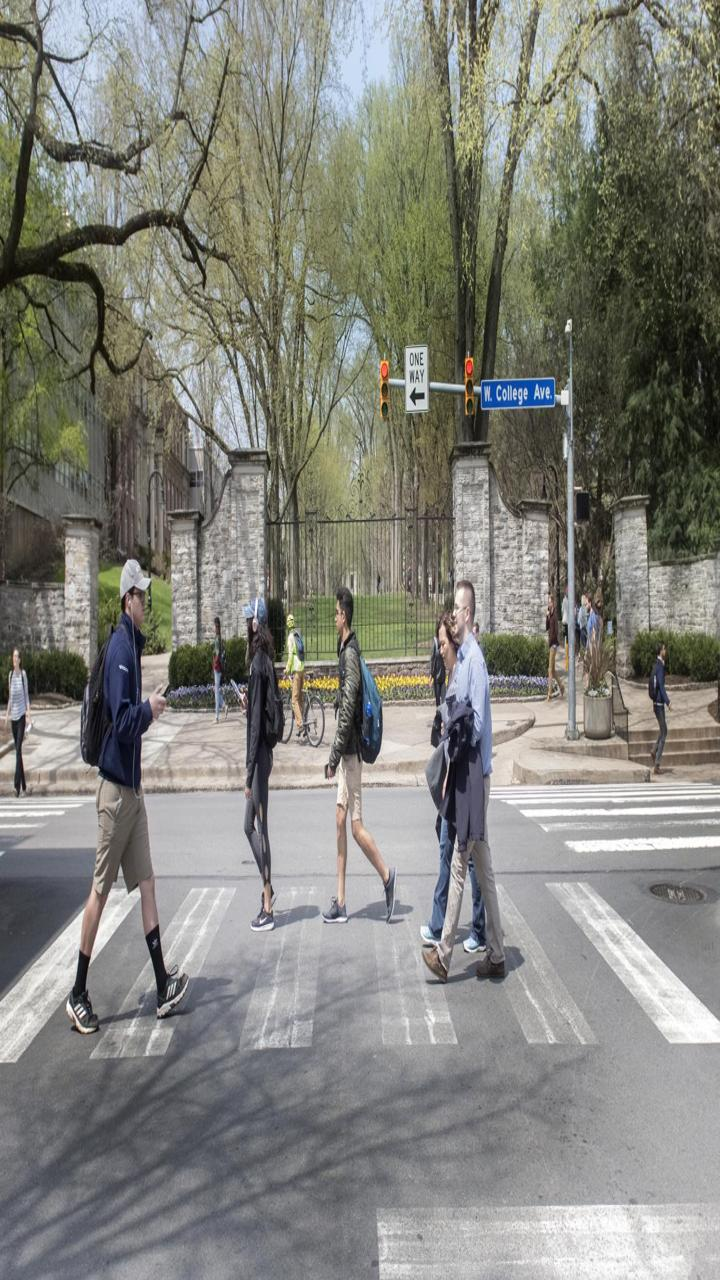Traffic sign: (359, 340, 398, 429), (476, 375, 572, 411)
pedestrian: (59, 543, 191, 1055), (417, 575, 507, 985), (315, 573, 404, 933), (224, 580, 298, 951), (636, 606, 695, 805), (2, 631, 38, 816)
